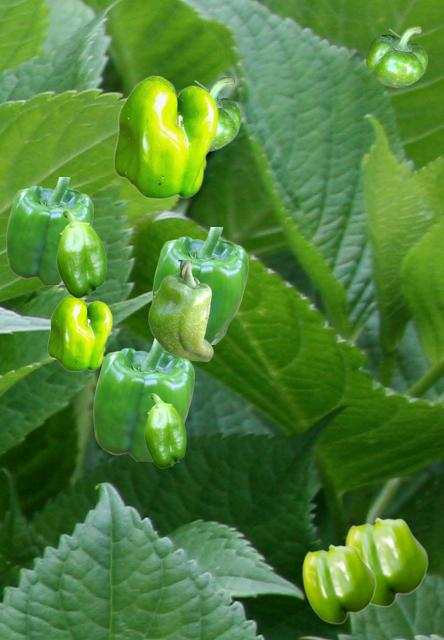bell_pepper: (113, 75, 217, 198), (93, 338, 193, 460), (152, 227, 247, 343), (6, 177, 92, 283), (345, 517, 427, 606), (148, 260, 212, 360), (302, 544, 375, 623), (47, 295, 111, 370), (177, 76, 240, 150), (56, 210, 105, 297), (366, 25, 426, 86), (144, 393, 185, 467)
